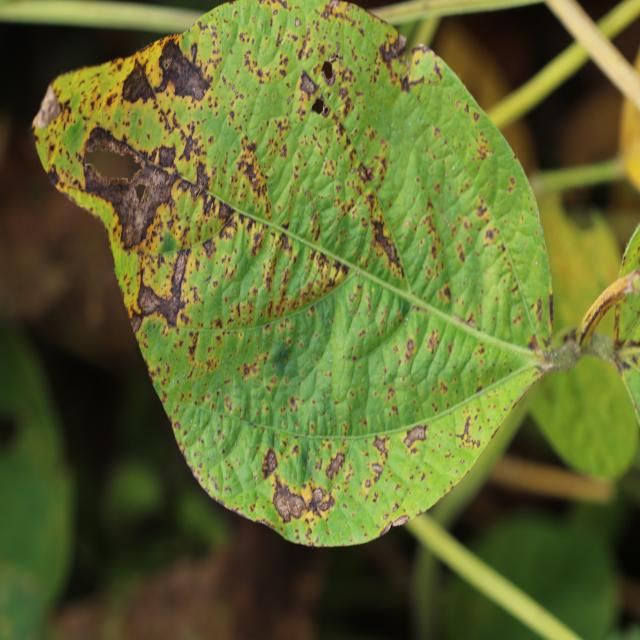Bacterial_Blight: (75, 128, 172, 251), (135, 248, 191, 329), (152, 38, 211, 105), (370, 212, 402, 271), (266, 478, 305, 524), (121, 58, 156, 106), (378, 32, 409, 78), (32, 82, 62, 129), (189, 161, 213, 203), (456, 414, 482, 449), (178, 131, 199, 163), (325, 451, 346, 482), (402, 424, 427, 450), (261, 447, 279, 480), (298, 69, 318, 98), (155, 143, 176, 168), (372, 434, 390, 458), (355, 161, 373, 184), (426, 329, 440, 355), (201, 236, 216, 258), (527, 333, 541, 354), (483, 226, 499, 243), (391, 514, 410, 528), (455, 242, 467, 264), (475, 200, 489, 218), (130, 313, 142, 334), (370, 462, 383, 479), (380, 521, 393, 535), (223, 396, 233, 412), (294, 17, 302, 28), (364, 478, 372, 488)
Soybean: (33, 0, 577, 546)
